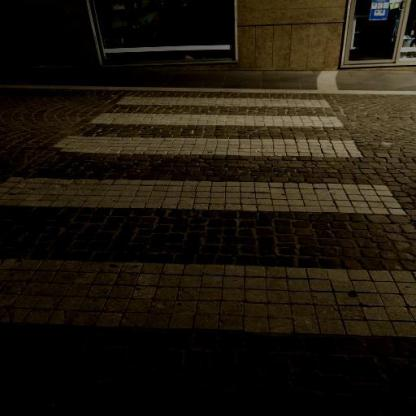crosswalk: (0, 173, 416, 366), (46, 112, 368, 164)
